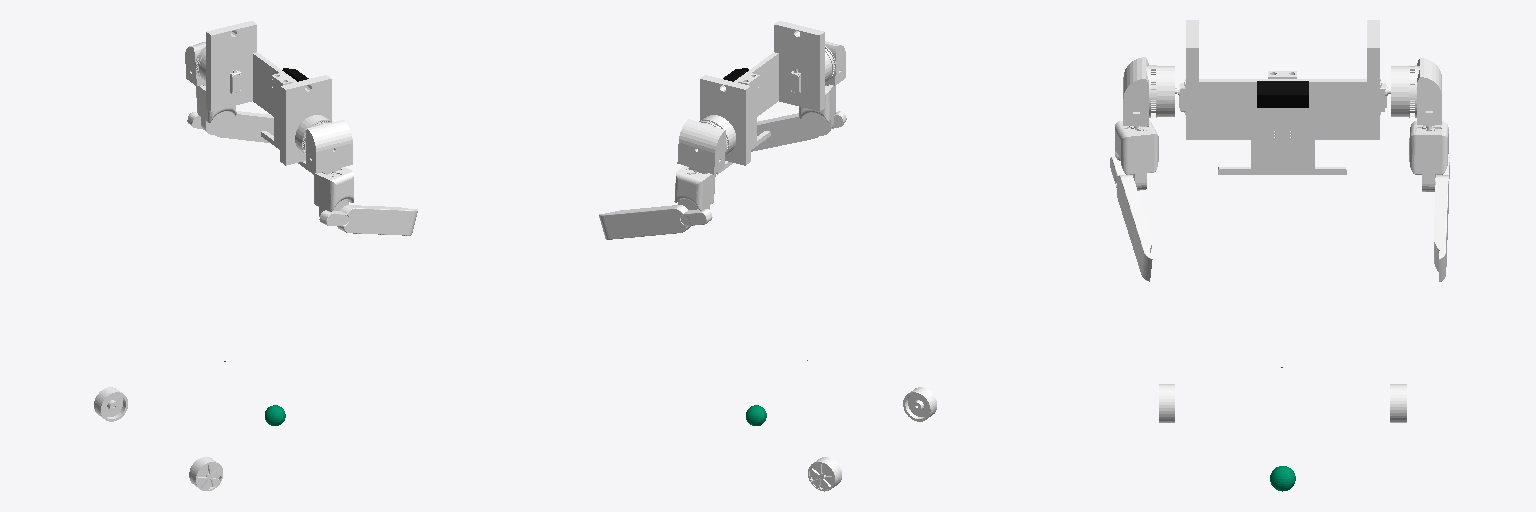
The robot description file, URDF, robot "fullrobotassem":
<?xml version="1.0" encoding="utf-8"?>
<robot name="fullrobotassem">

  <link name="base_footprint"/>

  <joint name="base_joint" type="fixed">
    <origin xyz="-0.046589 -0.236534 0.17626923" rpy="0 0 0"/>
    <parent link="base_footprint"/>
    <child link="base_link"/>
  </joint>

  <link name="base_link">
    <inertial>
      <origin xyz="0.139089 0.236534 0.235731" rpy="0 0 0" />
      <mass value="2.99" />
      <inertia ixx="0.20147" ixy="0" ixz="0" iyy="0.203289" iyz="0" izz="0.0664029" />
    </inertial>
    <visual>
      <origin xyz="0 0 0" rpy="0 0 0" />
      <geometry>
        <mesh filename="package://fullrobotassem/meshes/base_link.STL" />
      </geometry>
      <material name="gray_base">
        <color rgba="0.5 0.5 0.5 1" />
      </material>
    </visual>
    <collision>
      <origin xyz="0 0 0" rpy="0 0 0" />
      <geometry>
        <mesh filename="package://fullrobotassem/meshes/base_link.STL" />
      </geometry>
    </collision>
  </link>

  <link name="lidar_link">
    <inertial>
      <origin xyz="0 0 0" rpy="0 0 0" />
      <mass value="0.1" />
      <inertia ixx="0.0001" ixy="0" ixz="0" iyy="0.0001" iyz="0" izz="0.0001" />
    </inertial>
    <visual>
      <origin xyz="0 0 0" rpy="0 0 0" />
      <geometry>
        <cylinder radius="0.001" length="0.001"/>
      </geometry>
    </visual>
    <collision>
      <origin xyz="0 0 0" rpy="0 0 0" />
      <geometry>
        <cylinder radius="0.05" length="0.04"/>
      </geometry>
    </collision>
  </link>

  <joint name="lidar_joint" type="fixed">
      <origin xyz="0.19 0.235 -0.02" rpy="0 0 3.14159265" />
      <parent link="base_link" />
      <child link="lidar_link" />
  </joint>

  <link name="upper_body">
    <inertial>
      <origin xyz="0.286589 0.236535 0.485083" rpy="0 0 0" />
      <mass value="1.0125" />
      <inertia ixx="0.0136493" ixy="0" ixz="0" iyy="0.00485359" iyz="0" izz="0.0104832" />
    </inertial>

    <visual>
      <origin xyz="0 0 0" rpy="0 0 0" />
      <geometry>
        <mesh filename="package://fullrobotassem/meshes/upper_body.STL" />
      </geometry>
      <material name="white_body">
        <color rgba="1 1 1 1" />
      </material>
    </visual>
    <collision>
      <origin xyz="0 0 0" rpy="0 0 0" />
      <geometry>
        <mesh filename="package://fullrobotassem/meshes/upper_body.STL" />
      </geometry>
    </collision>
  </link>

  <joint name="upperbody" type="prismatic">
    <origin xyz="0 0 0" rpy="0 0 0" />
    <parent link="base_link" />
    <child link="upper_body" />
    <axis xyz="0 0 1" />
    <limit lower="-0.30" upper="0.065" effort="100" velocity="0.1" />
    <dynamics damping="5.0" friction="1.0" />
  </joint>

  <link name="left_shoulder">
    <inertial>
      <origin xyz="0 0 0" rpy="0 0 0" />
      <mass value="0.42814" />
      <inertia ixx="0.000424904" ixy="-2.0093e-06" ixz="1.14749e-06" iyy="0.000411979" iyz="2.78952e-05" izz="0.000418193" />
    </inertial>
    <visual>
      <origin xyz="-0.287084 -0.444446 -0.493527" rpy="0 0 0" />
      <geometry>
        <mesh filename="package://fullrobotassem/meshes/left_shoulder.STL" />
      </geometry>
      <material name="white_left_shoulder">
        <color rgba="1 1 1 1" />
      </material>
    </visual>
    <collision>
      <origin xyz="-0.287084 -0.444446 -0.493527" rpy="0 0 0" />
      <geometry>
        <mesh filename="package://fullrobotassem/meshes/left_shoulder.STL" />
      </geometry>
    </collision>
  </link>

  <joint name="left_shoulder_joint" type="revolute">
    <origin xyz="0.287084 0.444446 0.493527" rpy="0 0 0" />
    <parent link="upper_body" />
    <child link="left_shoulder" />
    <axis xyz="0 1 0" />
    <limit lower="-3.14" upper="1.57" effort="5" velocity="2.0" />
    <dynamics damping="0.1" friction="0.05" />
  </joint>

  <link name="left_arm">
    <inertial>
      <origin xyz="0.039221 0.009252 -0.127083" rpy="0 0 0" />
      <mass value="0.44382" />
      <inertia ixx="0.00100882" ixy="-0.000152956" ixz="0.000891016" iyy="0.00237659" iyz="0.000157432" izz="0.00157024" />
    </inertial>
    <visual>
      <origin xyz="-0.299505 -0.462575 -0.493527" rpy="0 0 0" />
      <geometry>
        <mesh filename="package://fullrobotassem/meshes/left_arm.STL" />
      </geometry>
      <material name="white_left_arm">
        <color rgba="1 1 1 1" />
      </material>
    </visual>
    <collision>
      <origin xyz="-0.299505 -0.462575 -0.493527" rpy="0 0 0" />
      <geometry>
        <mesh filename="package://fullrobotassem/meshes/left_arm.STL" />
      </geometry>
    </collision>
  </link>
  <joint name="left_arm_joint" type="revolute">
    <!-- <origin xyz="0 0 0" rpy="0 0 0" /> -->
    <origin xyz="0.012421 0.018129 0" rpy="0 0 0" />
    <parent link="left_shoulder" />
    <child link="left_arm" />
    <axis xyz="0 0 1" />
    <limit lower="-1.57" upper="1.57" effort="5" velocity="2.0" />
    <dynamics damping="0.1" friction="0.05" />
  </joint>

  <link name="right_shoulder">
    <inertial>
      <origin xyz="0 0 0" rpy="0 0 0" />
      <mass value="0.42793" />
      <inertia ixx="0.000423755" ixy="6.96857e-06" ixz="2.06603e-06" iyy="0.000411368" iyz="-2.68761e-05" izz="0.000418739" />
    </inertial>
    <visual>
      <origin xyz="-0.286956 -0.028614 -0.493711" rpy="0 0 0" />
      <geometry>
        <mesh filename="package://fullrobotassem/meshes/right_shoulder.STL" />
      </geometry>
      <material name="white_right_shoulder">
        <color rgba="1 1 1 1" />
      </material>
    </visual>
    <collision>
      <origin xyz="-0.286956 -0.028614 -0.493711" rpy="0 0 0" />
      <geometry>
        <mesh filename="package://fullrobotassem/meshes/right_shoulder.STL" />
      </geometry>
    </collision>
  </link>

  <joint name="right_shoulder_joint" type="revolute">
    <origin xyz="0.286956 0.028614 0.493711" rpy="0 0.24 0" />
    <parent link="upper_body" />
    <child link="right_shoulder" />
    <axis xyz="0 1 0" />
    <limit lower="-3.38" upper="1.33" effort="5" velocity="2.0" />
    <dynamics damping="0.1" friction="0.05" />
  </joint>

  <link name="right_arm">
    <inertial>
      <origin xyz="0.063229 -0.002284 -0.116748" rpy="0 0 0" />
      <mass value="0.44382" />
      <inertia ixx="0.000649348" ixy="-0.000124844" ixz="0.00068582" iyy="0.00235011" iyz="-9.51443e-06" izz="0.00189447" />
    </inertial>
    <visual>
      <origin xyz="-0.299145 -0.010485 -0.496694" rpy="0 0 0" />
      <geometry>
        <mesh filename="package://fullrobotassem/meshes/right_arm.STL" />
      </geometry>
      <material name="white_right_arm">
        <color rgba="1 1 1 1" />
      </material>
    </visual> 
    <collision>
      <origin xyz="-0.299145 -0.010485 -0.496694" rpy="0 0 0" />
      <geometry>
        <mesh filename="package://fullrobotassem/meshes/right_arm.STL" />
      </geometry>
    </collision>
  </link>

  <joint name="right_arm_joint" type="revolute">
    <origin xyz="0.012189 -0.018129 0.002983" rpy="0 0 0" />
    <parent link="right_shoulder" />
    <child link="right_arm" />
    <axis xyz="-0.237703 0 0.971338" />
    <limit lower="-1.57" upper="1.57" effort="5" velocity="2.0" />
    <dynamics damping="0.1" friction="0.05" />
  </joint>

<link name="right_wheel">
  <inertial>
    <origin xyz="0 0 0" rpy="0 0 0" />
    <mass value="0.05056" />
    <inertia ixx="1.4651E-05" ixy="0" ixz="0" iyy="2.5069E-05" iyz="0" izz="1.4653E-05" />
  </inertial>
  <visual>
    <origin xyz="-0.046589 -0.057034 0.149269" rpy="0 0 0" />
    <geometry>
      <mesh filename="package://fullrobotassem/meshes/right_wheel.STL" />
    </geometry>
    <material name="">
      <color rgba="1 1 1 1" />
    </material>
  </visual>
  <collision>
    <origin xyz="0 0 0" rpy="1.5708 0 0" />
    <geometry>
      <cylinder radius="0.03" length="0.026" />
    </geometry>
  </collision>
</link>

<joint name="rightwheel" type="continuous">
  <origin xyz="0.046589 0.057034 -0.149269" rpy="0 0 0" />
  <parent link="base_link" />
  <child link="right_wheel" />
  <axis xyz="0 1 0" />
  <limit effort="5" velocity="70" />
</joint>

<link name="left_wheel">
  <inertial>
    <origin xyz="0 0 0" rpy="0 0 0" />
    <mass value="0.05056" />
    <inertia ixx="1.4651E-05" ixy="0" ixz="0" iyy="2.5069E-05" iyz="0" izz="1.4653E-05" />
  </inertial>
  <visual>
    <origin xyz="-0.046589 -0.416034 0.149269" rpy="0 0 0" />
    <geometry>
      <mesh filename="package://fullrobotassem/meshes/left_wheel.STL" />
    </geometry>
    <material name="">
      <color rgba="1 1 1 1" />
    </material>
  </visual>
  <collision>
    <origin xyz="0 0 0" rpy="1.5708 0 0" />
    <geometry>
      <cylinder radius="0.03" length="0.026" />
    </geometry>
  </collision>
</link>

<joint name="leftwheel" type="continuous">
  <origin xyz="0.046589 0.416034 -0.149269" rpy="0 0 0" />
  <parent link="base_link" />
  <child link="left_wheel" />
  <axis xyz="0 1 0" />
  <limit effort="5" velocity="70" />
</joint>

  <gazebo reference="lidar_link">
    <sensor name="lidar" type="gpu_lidar">
      <always_on>true</always_on>
      <visualize>true</visualize>
      <update_rate>40</update_rate>
      <topic>/scan</topic>
      <gz_frame_id>lidar_link</gz_frame_id>
      <ray>
        <scan>
          <horizontal>
            <samples>720</samples>
            <resolution>1</resolution>
            <min_angle>-3.14159</min_angle>
            <max_angle>3.14159</max_angle>
          </horizontal>
        </scan>
        <range>
          <min>0.30</min>
          <max>30.0</max>
          <resolution>0.01</resolution>
        </range>
      </ray>
    </sensor>
  </gazebo>

  <link name="caster_link">
    <inertial>
      <origin xyz="0 0 0" rpy="0 0 0"/>
      <mass value="0.05"/>
      <inertia ixx="1e-5" ixy="0" ixz="0" iyy="1e-5" iyz="0" izz="1e-5"/>
    </inertial>
    <visual>
      <origin xyz="0 0 0" rpy="0 0 0"/>
      <geometry><sphere radius="0.02"/></geometry>
    </visual>
    <collision>
      <origin xyz="0 0 0" rpy="0 0 0"/>
      <geometry><sphere radius="0.02"/></geometry>
    </collision>
  </link> 

  <joint name="caster_joint" type="fixed">
    <origin xyz="0.30 0.2365 -0.159269" rpy="0 0 0"/>
    <parent link="base_link"/>
    <child link="caster_link"/>
  </joint>

  <gazebo reference="caster_link">
    <mu1>0.0</mu1>
    <mu2>0.0</mu2>
  </gazebo>

  <gazebo reference="left_wheel">
    <mu1>1.5</mu1>
    <mu2>1.5</mu2>
    <minDepth>0.001</minDepth>
    <visual>
      <material>
        <ambient>0.05 0.05 0.05 1</ambient>
        <diffuse>0.05 0.05 0.05 1</diffuse>
        <specular>0.1 0.1 0.1 1</specular>
      </material>
    </visual>
  </gazebo>

  <gazebo reference="right_wheel">
    <mu1>1.5</mu1>
    <mu2>1.5</mu2>
    <minDepth>0.001</minDepth>
    <visual>
      <material>
        <ambient>0.05 0.05 0.05 1</ambient>
        <diffuse>0.05 0.05 0.05 1</diffuse>
        <specular>0.1 0.1 0.1 1</specular>
      </material>
    </visual>
  </gazebo>

  <gazebo>
    <plugin filename="gz-sim-diff-drive-system" name="gz::sim::systems::DiffDrive">
      <left_joint>leftwheel</left_joint>
      <right_joint>rightwheel</right_joint>
      <wheel_separation>0.359</wheel_separation>
      <wheel_radius>0.03</wheel_radius>
      <max_linear_velocity>1.0</max_linear_velocity>
      <min_linear_velocity>-1.0</min_linear_velocity>
      <max_angular_velocity>4.5</max_angular_velocity>
      <min_angular_velocity>-4.5</min_angular_velocity>
      <max_linear_acceleration>2.0</max_linear_acceleration>
      <min_linear_acceleration>-2.0</min_linear_acceleration>
      <max_angular_acceleration>7.5</max_angular_acceleration>
      <min_angular_acceleration>-7.5</min_angular_acceleration>
      
      <odom_publish_frequency>50</odom_publish_frequency>
      <topic>/cmd_vel</topic>
      <odom_topic>/odom</odom_topic>
      <tf_topic>/tf</tf_topic>
      <frame_id>odom</frame_id>
      <child_frame_id>base_footprint</child_frame_id>
    </plugin>
  </gazebo>
  <gazebo>
    <plugin filename="gz-sim-joint-state-publisher-system" name="gz::sim::systems::JointStatePublisher">
      <topic>joint_states</topic>
    </plugin>
  </gazebo>

  <!-- 1. CAMERA LINK -->
  <link name="camera_link">
    <inertial>
      <origin xyz="0 0 0" rpy="0 0 0"/>
      <mass value="0.05"/>
      <inertia ixx="1e-4" ixy="0" ixz="0" iyy="1e-4" iyz="0" izz="1e-4"/>
    </inertial>
    <visual>
      <origin xyz="0 0 0" rpy="0 0 0"/>
      <geometry>
        <box size="0.03 0.08 0.03"/>
      </geometry>
      <material name="black">
        <color rgba="0.1 0.1 0.1 1"/>
      </material>
    </visual>
    <collision>
      <origin xyz="0 0 0" rpy="0 0 0"/>
      <geometry>
        <box size="0.03 0.08 0.03"/>
      </geometry>
    </collision>
  </link>

  <link name="camera_link_optical"/>

  <joint name="camera_joint" type="fixed">
    <origin xyz="0.35 0.2365 0.52" rpy="0 0.349066 0"/>
    <parent link="upper_body"/>
    <child link="camera_link"/>
  </joint>

  <joint name="camera_optical_joint" type="fixed">
    <origin xyz="0 0 0" rpy="-1.5708 0 -1.5708"/>
    <parent link="camera_link"/>
    <child link="camera_link_optical"/>
  </joint>

  <gazebo reference="camera_link">
    <sensor name="camera" type="camera">
      <always_on>true</always_on>
      <update_rate>30</update_rate>
      <topic>/camera/image_raw</topic>
      <gz_frame_id>camera_link_optical</gz_frame_id>
      <camera>
        <horizontal_fov>1.089</horizontal_fov> 
        <image>
          <width>640</width>
          <height>480</height>
          <format>R8G8B8</format>
        </image>
        <clip>
          <near>0.05</near>
          <far>8.0</far>
        </clip>
      </camera>
    </sensor>
  </gazebo>
  <gazebo>
    <plugin filename="gz-sim-joint-position-controller-system"
            name="gz::sim::systems::JointPositionController">
      <joint_name>upperbody</joint_name>
      <topic>/upper_body/cmd_pos</topic>
      <p_gain>2000</p_gain>
      <i_gain>100</i_gain>
      <d_gain>150</d_gain>
      <i_max>50</i_max>
      <i_min>-50</i_min>
      <cmd_max>100</cmd_max>
      <cmd_min>-100</cmd_min>
    </plugin>
  </gazebo>

  <gazebo>
    <plugin filename="gz-sim-joint-position-controller-system"
            name="gz::sim::systems::JointPositionController">
      <joint_name>left_arm_joint</joint_name>
      <topic>/left_arm/cmd_pos</topic>
      <p_gain>20</p_gain>
      <i_gain>0.5</i_gain>
      <d_gain>2</d_gain>
      <i_max>2</i_max>
      <i_min>-2</i_min>
      <cmd_max>5</cmd_max>
      <cmd_min>-5</cmd_min>
    </plugin>
  </gazebo>

  <gazebo>
    <plugin filename="gz-sim-joint-position-controller-system"
            name="gz::sim::systems::JointPositionController">
      <joint_name>right_arm_joint</joint_name>
      <topic>/right_arm/cmd_pos</topic>
      <p_gain>20</p_gain>
      <i_gain>0.5</i_gain>
      <d_gain>2</d_gain>
      <i_max>2</i_max>
      <i_min>-2</i_min>
      <cmd_max>5</cmd_max>
      <cmd_min>-5</cmd_min>
    </plugin>
  </gazebo>

  <gazebo>
    <plugin filename="gz-sim-joint-position-controller-system"
            name="gz::sim::systems::JointPositionController">
      <joint_name>left_shoulder_joint</joint_name>
      <topic>/left_shoulder/cmd_pos</topic>
      <p_gain>20</p_gain>
      <i_gain>0.5</i_gain>
      <d_gain>2</d_gain>
      <i_max>2</i_max>
      <i_min>-2</i_min>
      <cmd_max>5</cmd_max>
      <cmd_min>-5</cmd_min>
    </plugin>
  </gazebo>

  <gazebo>
    <plugin filename="gz-sim-joint-position-controller-system"
            name="gz::sim::systems::JointPositionController">
      <joint_name>right_shoulder_joint</joint_name>
      <topic>/right_shoulder/cmd_pos</topic>
      <p_gain>20</p_gain>
      <i_gain>0.5</i_gain>
      <d_gain>2</d_gain>
      <i_max>2</i_max>
      <i_min>-2</i_min>
      <cmd_max>5</cmd_max>
      <cmd_min>-5</cmd_min>
    </plugin>
  </gazebo>
  
</robot>

--- What the picture shows (computed from the rendered views, not written in the file) ---
The picture shows the robot from 3 angles, left to right: view 1: azimuth 30°, elevation 25°; view 2: azimuth 150°, elevation 25°; view 3: azimuth 270°, elevation 25°; orthographic projection.
Model fullrobotassem with 13 links and 12 joints (4 revolute, 2 continuous, 1 prismatic, 5 fixed), rooted at base_footprint, posed all joints at 0.
Links seen in each view (by area): view 1: upper_body, right_arm, right_shoulder, left_arm, left_wheel, right_wheel, left_shoulder; view 2: upper_body, left_arm, left_shoulder, right_arm, right_wheel, left_wheel, right_shoulder; view 3: upper_body, right_arm, left_arm, right_shoulder, left_shoulder, camera_link, left_wheel, right_wheel.
Boxes of the visible links, bbox=[...] form: upper_body: bbox=[206, 21, 331, 174]; right_arm: bbox=[314, 167, 417, 235]; right_shoulder: bbox=[295, 115, 352, 176]; left_arm: bbox=[187, 85, 273, 142]; left_wheel: bbox=[94, 387, 127, 421]; right_wheel: bbox=[189, 457, 222, 490]; left_shoulder: bbox=[185, 42, 205, 85]; upper_body: bbox=[700, 21, 824, 174]; left_arm: bbox=[599, 166, 715, 239]; left_shoulder: bbox=[677, 115, 735, 174]; right_arm: bbox=[751, 85, 846, 151]; right_wheel: bbox=[903, 387, 936, 421]; left_wheel: bbox=[808, 457, 841, 491]; right_shoulder: bbox=[825, 41, 845, 85]; upper_body: bbox=[1175, 20, 1390, 174]; right_arm: bbox=[1110, 120, 1158, 281]; left_arm: bbox=[1409, 121, 1449, 281]; right_shoulder: bbox=[1123, 57, 1174, 130]; left_shoulder: bbox=[1391, 58, 1441, 130]; camera_link: bbox=[1257, 81, 1308, 107]; left_wheel: bbox=[1390, 384, 1406, 422]; right_wheel: bbox=[1159, 384, 1174, 422].
Bounding box of the posed robot: 0.4871 × 0.5265 × 0.7734 m (x, y, z).
7 mesh visuals loaded from 8 distinct referenced files (7 binary STL); not drawn: 1 (file found but could not be loaded).
